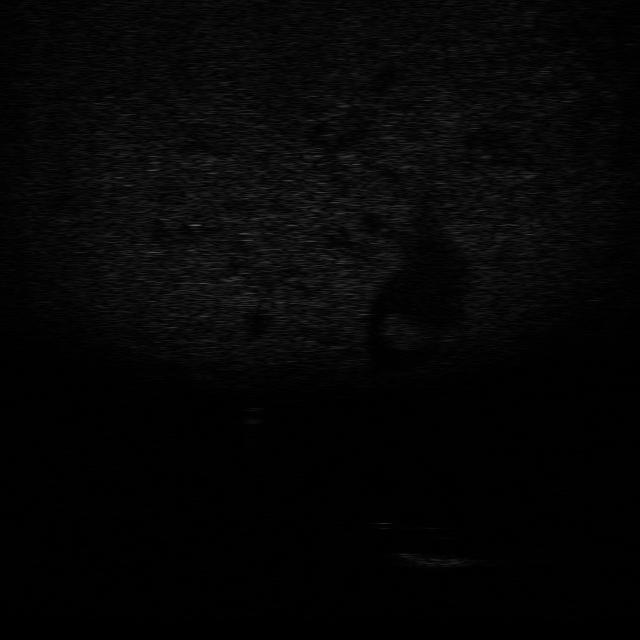ball: (234, 403, 274, 426)
metal bucket: (389, 547, 479, 572)
tyre: (365, 516, 450, 537)
